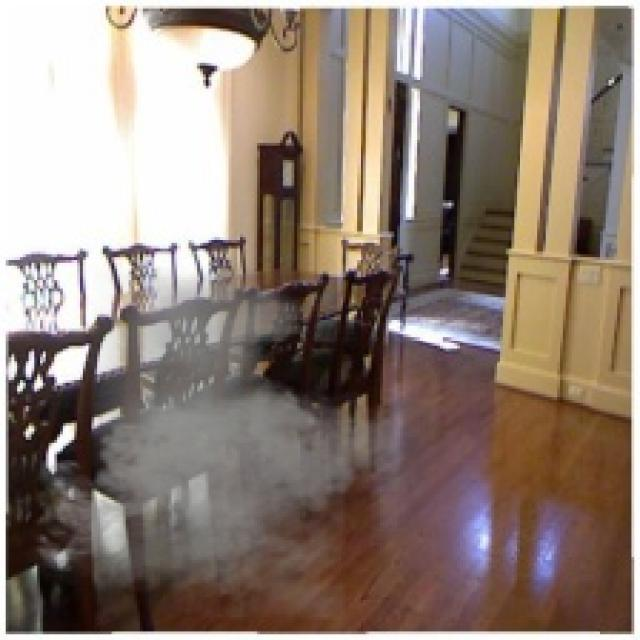Smoke: (22, 266, 414, 620)
